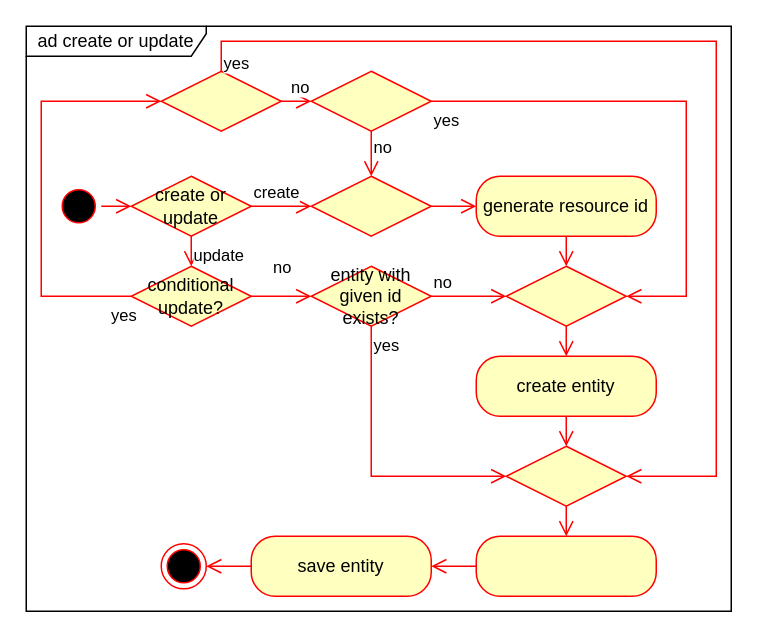
This 758x638 diagram has some shape labels left out. The shapes that lost their labels are listed below. From the top down, each one's box as (x1, y1, x2, y2) in pixels, then its label:
(160, 70, 281, 131): entity found?
(310, 70, 431, 131): id was given
(475, 535, 656, 596): set entity fields
